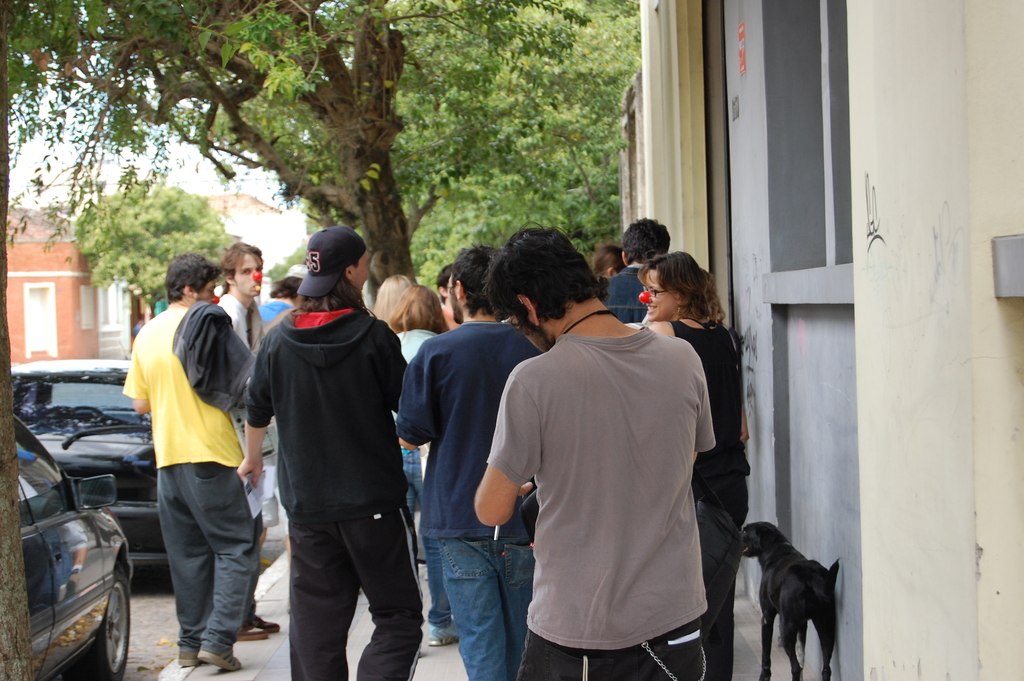Car: (5, 355, 272, 570)
